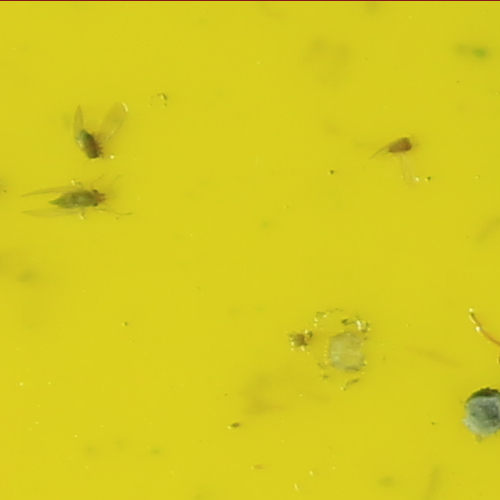Glycaspis: (51, 183, 111, 213)
Platyobria: (391, 130, 413, 153)
psylla: (79, 129, 104, 163)
